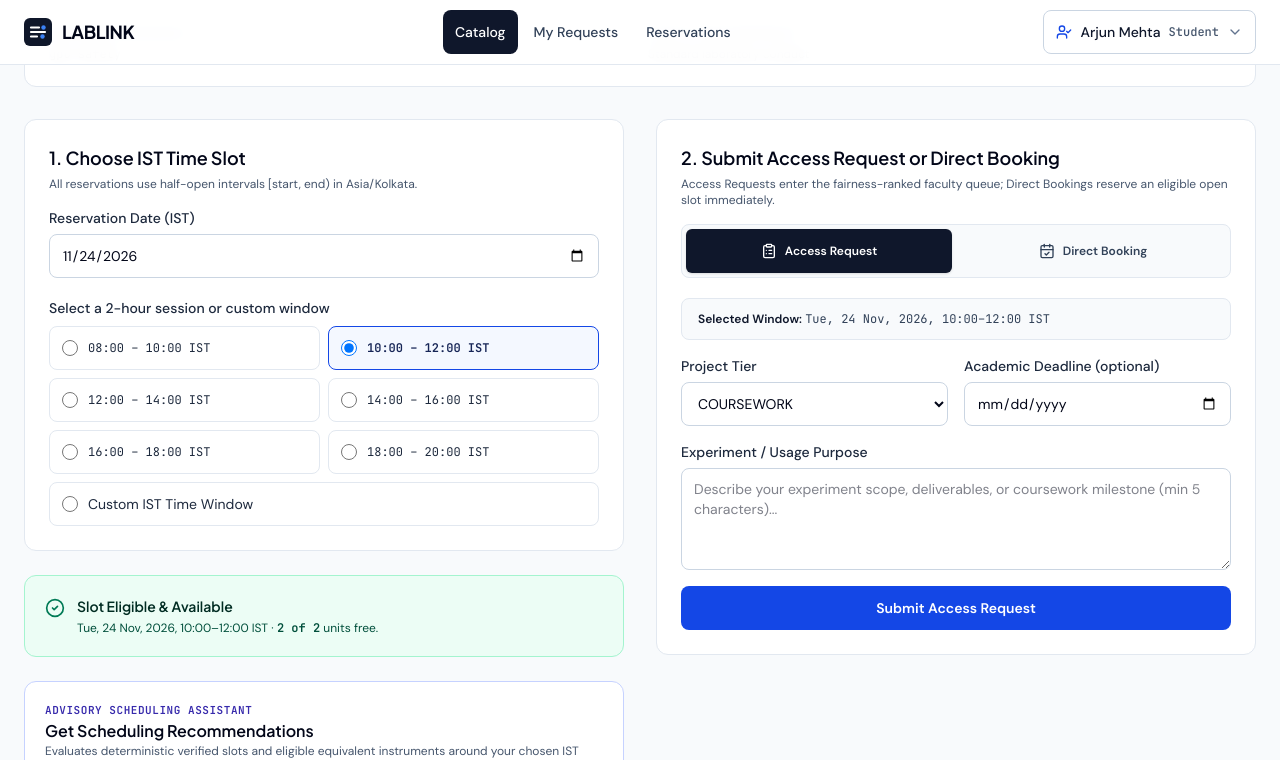
Scenario: Marketplace Search/Filters, Slot Picker, Duplicate Guard, 409 Conflicts & Axe › validates request form, prevents duplicate submit, handles HTTP 409 alternatives, and passes axe audit
(page scrolled)
Select a radio button slot
Click the radio button labelled "12:00 – 14:00 IST" at [70, 400], box [62,392,78,408]
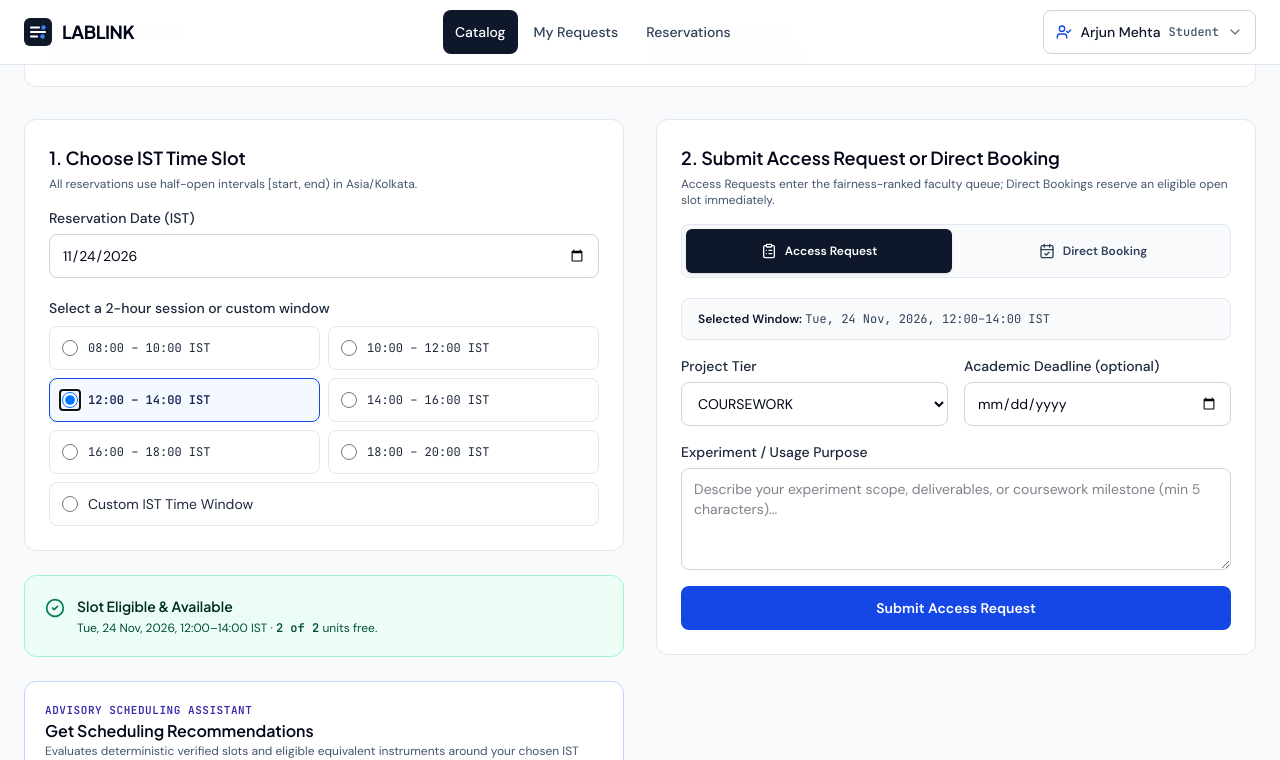
Now the radio button labelled "12:00 – 14:00 IST" is checked, box [62,392,78,408]
Submit empty purpose to verify client validation prevents POST
Click the button "Submit Access Request" at [956, 608], box [681,586,1231,630]
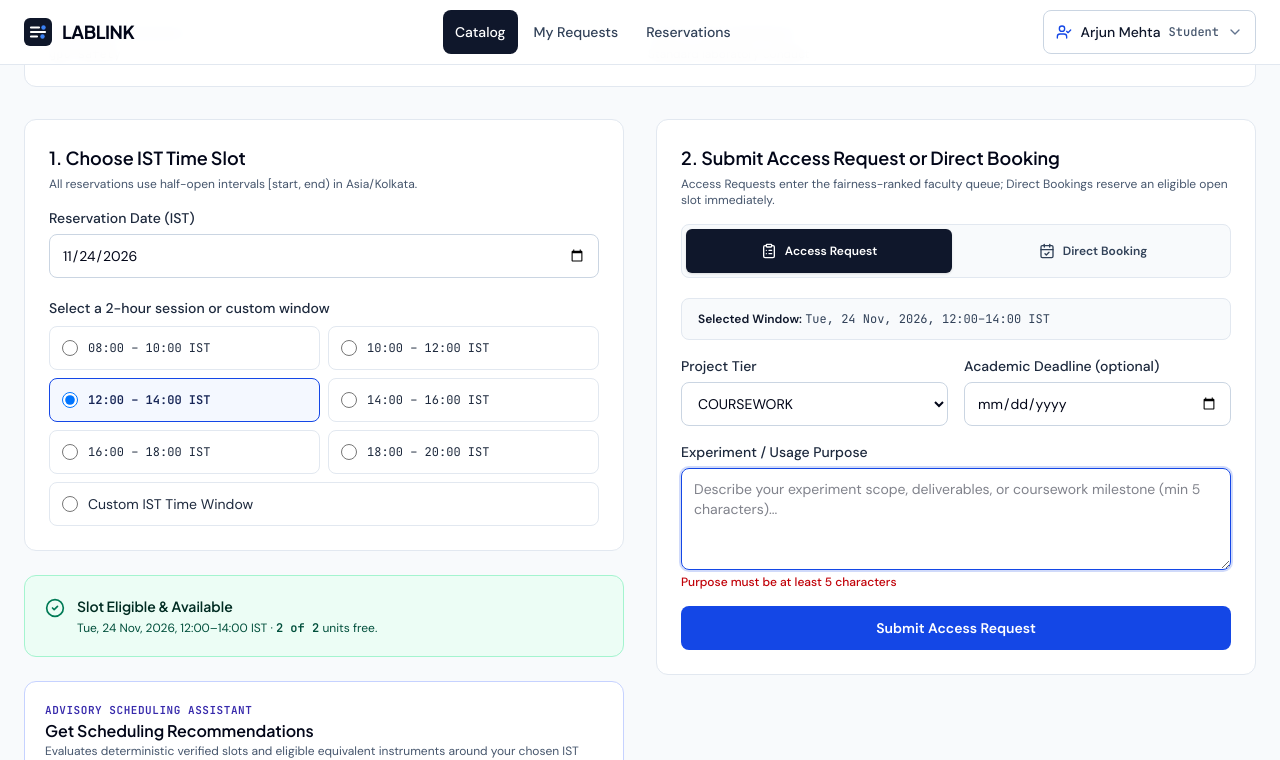
Now the text "Purpose must be at least 5 characters" is shown, box [681,574,896,590]
Type "Distributed model benchmark evaluation" into the text box labelled "Experiment / Usage Purpose" at [956, 519], box [681,468,1231,570]
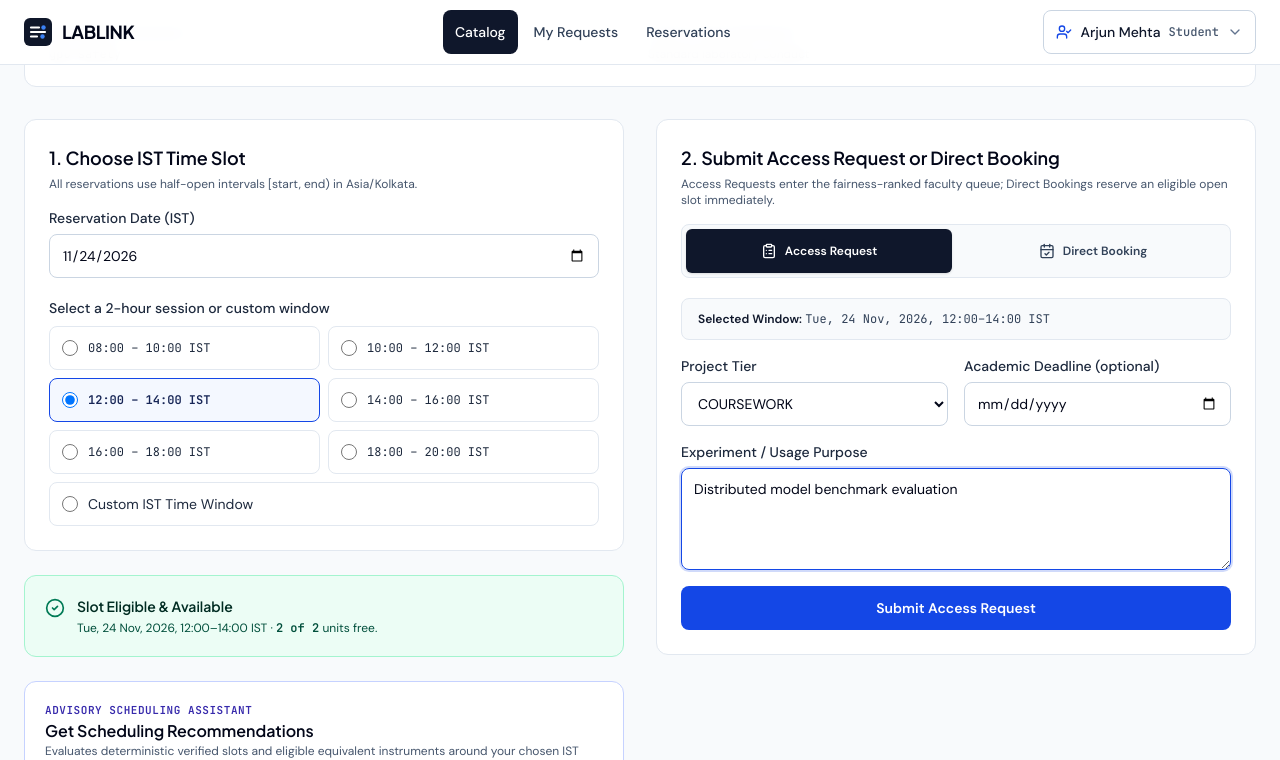
Click the button "Submit Access Request" at [956, 608], box [681,586,1231,630]
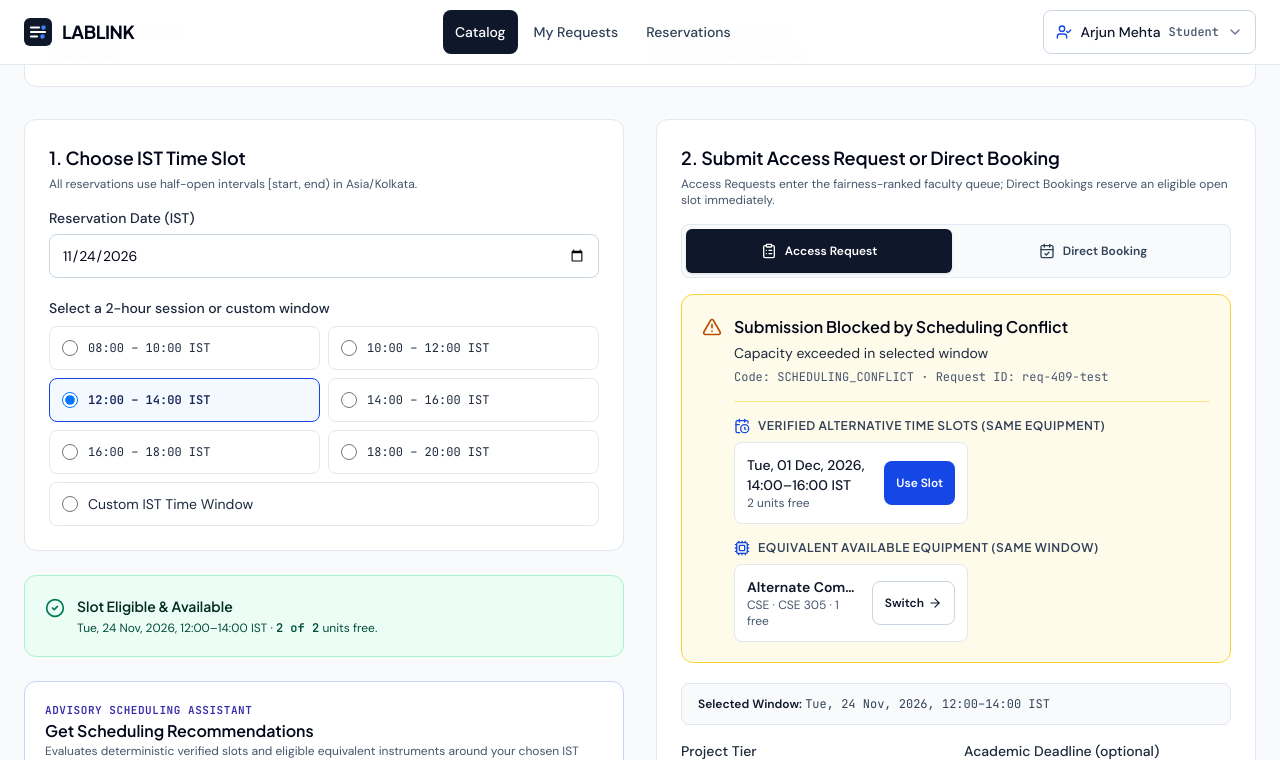
Now the heading "Submission Blocked by Scheduling Conflict" is shown, box [734,316,1068,337]
Now the text "Code: SCHEDULING_CONFLICT · Request ID: req-409-test" is shown, box [734,369,1108,385]
Now the text "Alternate Compute Rig" is shown, box [747,577,860,597]
Clicking "Use Slot" switches radio selection to 14:00 - 16:00 IST
Click the button "Use Slot" at [920, 483], box [884,461,955,505]
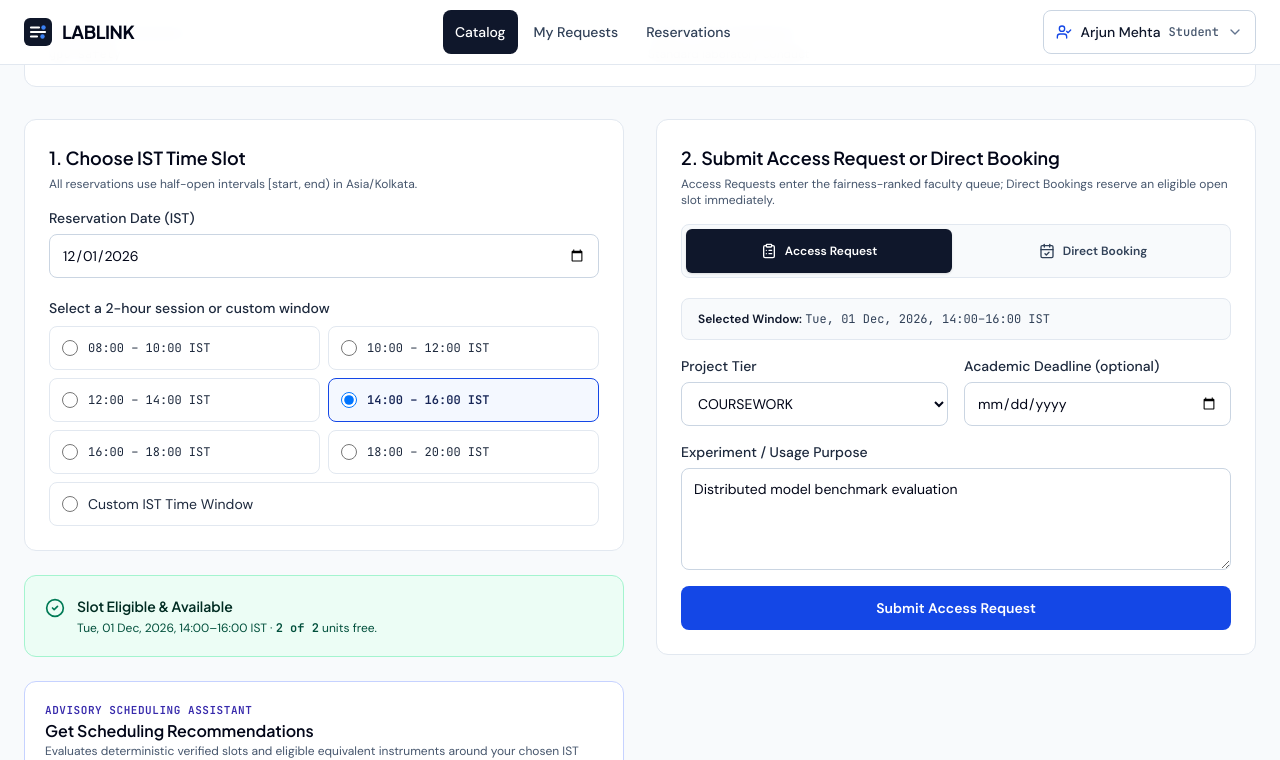
Now the radio button labelled "14:00 – 16:00 IST" is checked, box [341,392,357,408]
